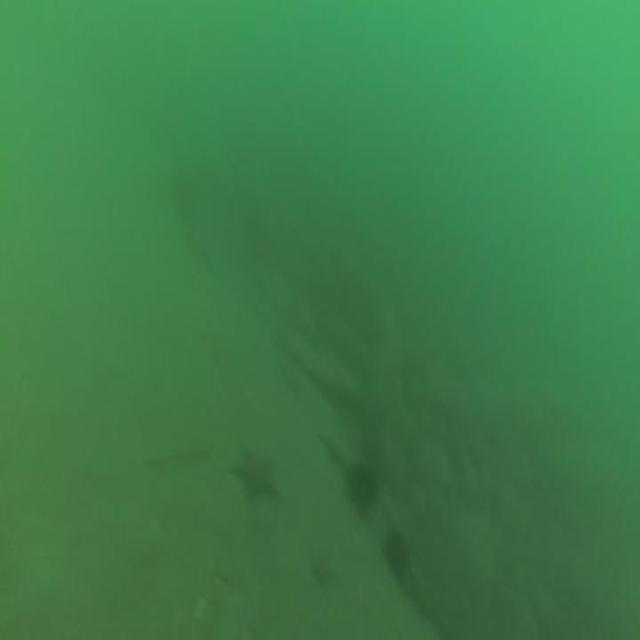echinus: (343, 460, 381, 521), (382, 526, 414, 588)
starfish: (228, 440, 282, 508)
